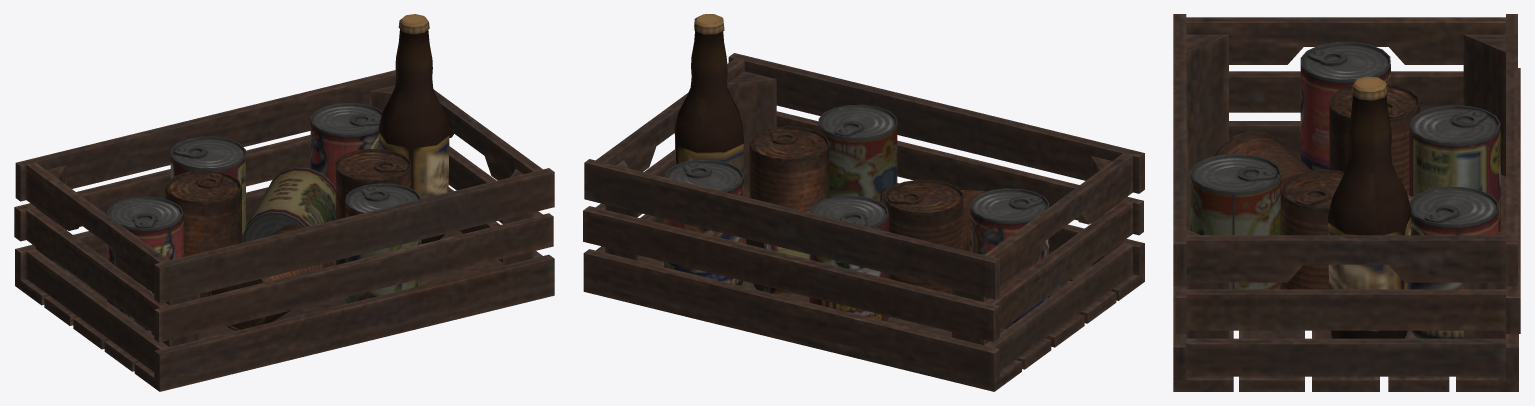
The model's file is supply_crate_1_2.obj.
3 views of the same model, side by side, from view 1: azimuth 30°, elevation 25°; view 2: azimuth 150°, elevation 25°; view 3: azimuth 270°, elevation 25° (orthographic). The views are drawn at different scales.
Parts seen in each view (by area): view 1: supply_crate_1_2; view 2: supply_crate_1_2; view 3: supply_crate_1_2.
Part boxes in pixels (x1=…): supply_crate_1_2: x1=14, y1=14, x2=554, y2=391; supply_crate_1_2: x1=583, y1=14, x2=1144, y2=391; supply_crate_1_2: x1=1173, y1=14, x2=1520, y2=391.
Size of the model in its own units: 0.668 by 0.3725 by 0.4262.
